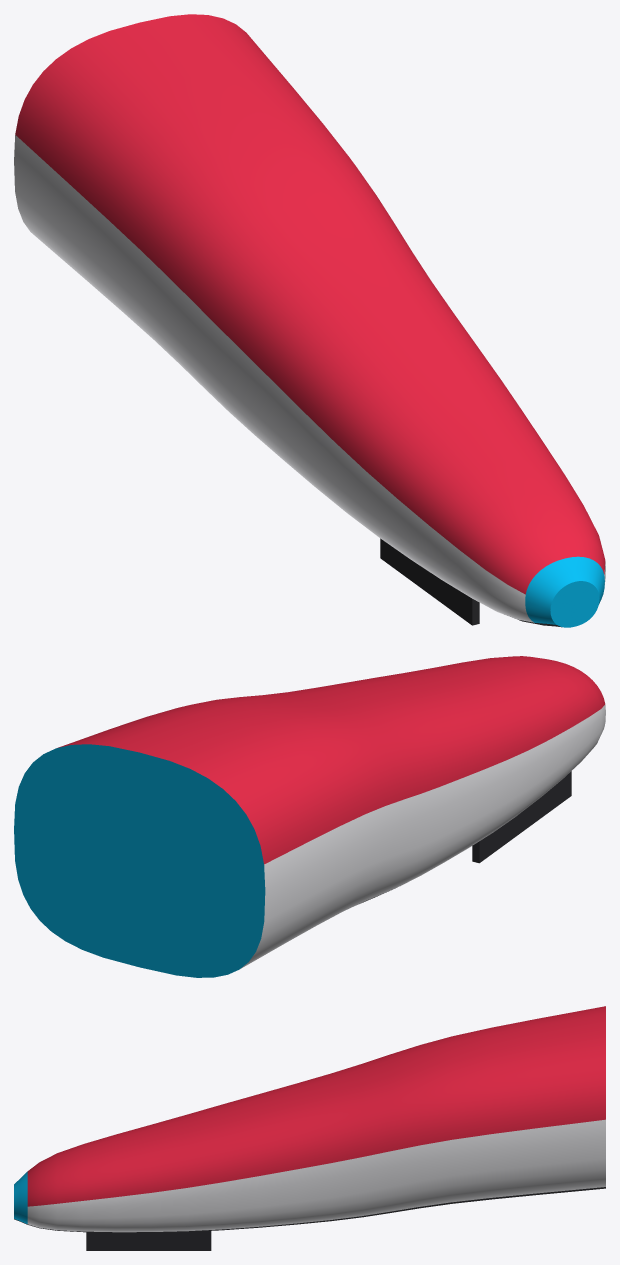
The model's file is standard.glb.
3 renders of one model, top to bottom at view 1: azimuth 30°, elevation 25°; view 2: azimuth 150°, elevation 25°; view 3: azimuth 270°, elevation 25°, orthographic. The views are drawn at different scales.
Parts seen in each view (by area): view 1: Nose_standard; view 2: Nose_standard; view 3: Nose_standard.
Boxes of the visible parts, x1,y1,x2,y2 form: Nose_standard: [14, 14, 605, 627]; Nose_standard: [14, 656, 605, 977]; Nose_standard: [14, 1006, 605, 1250].
Size of the model in its own units: 0.41 by 0.485 by 1.23.
